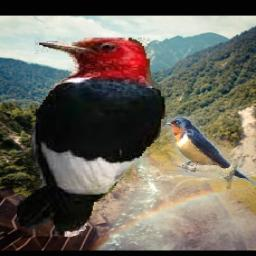Swallow: (165, 117, 256, 190)
Woodpecker: (17, 39, 171, 238)
